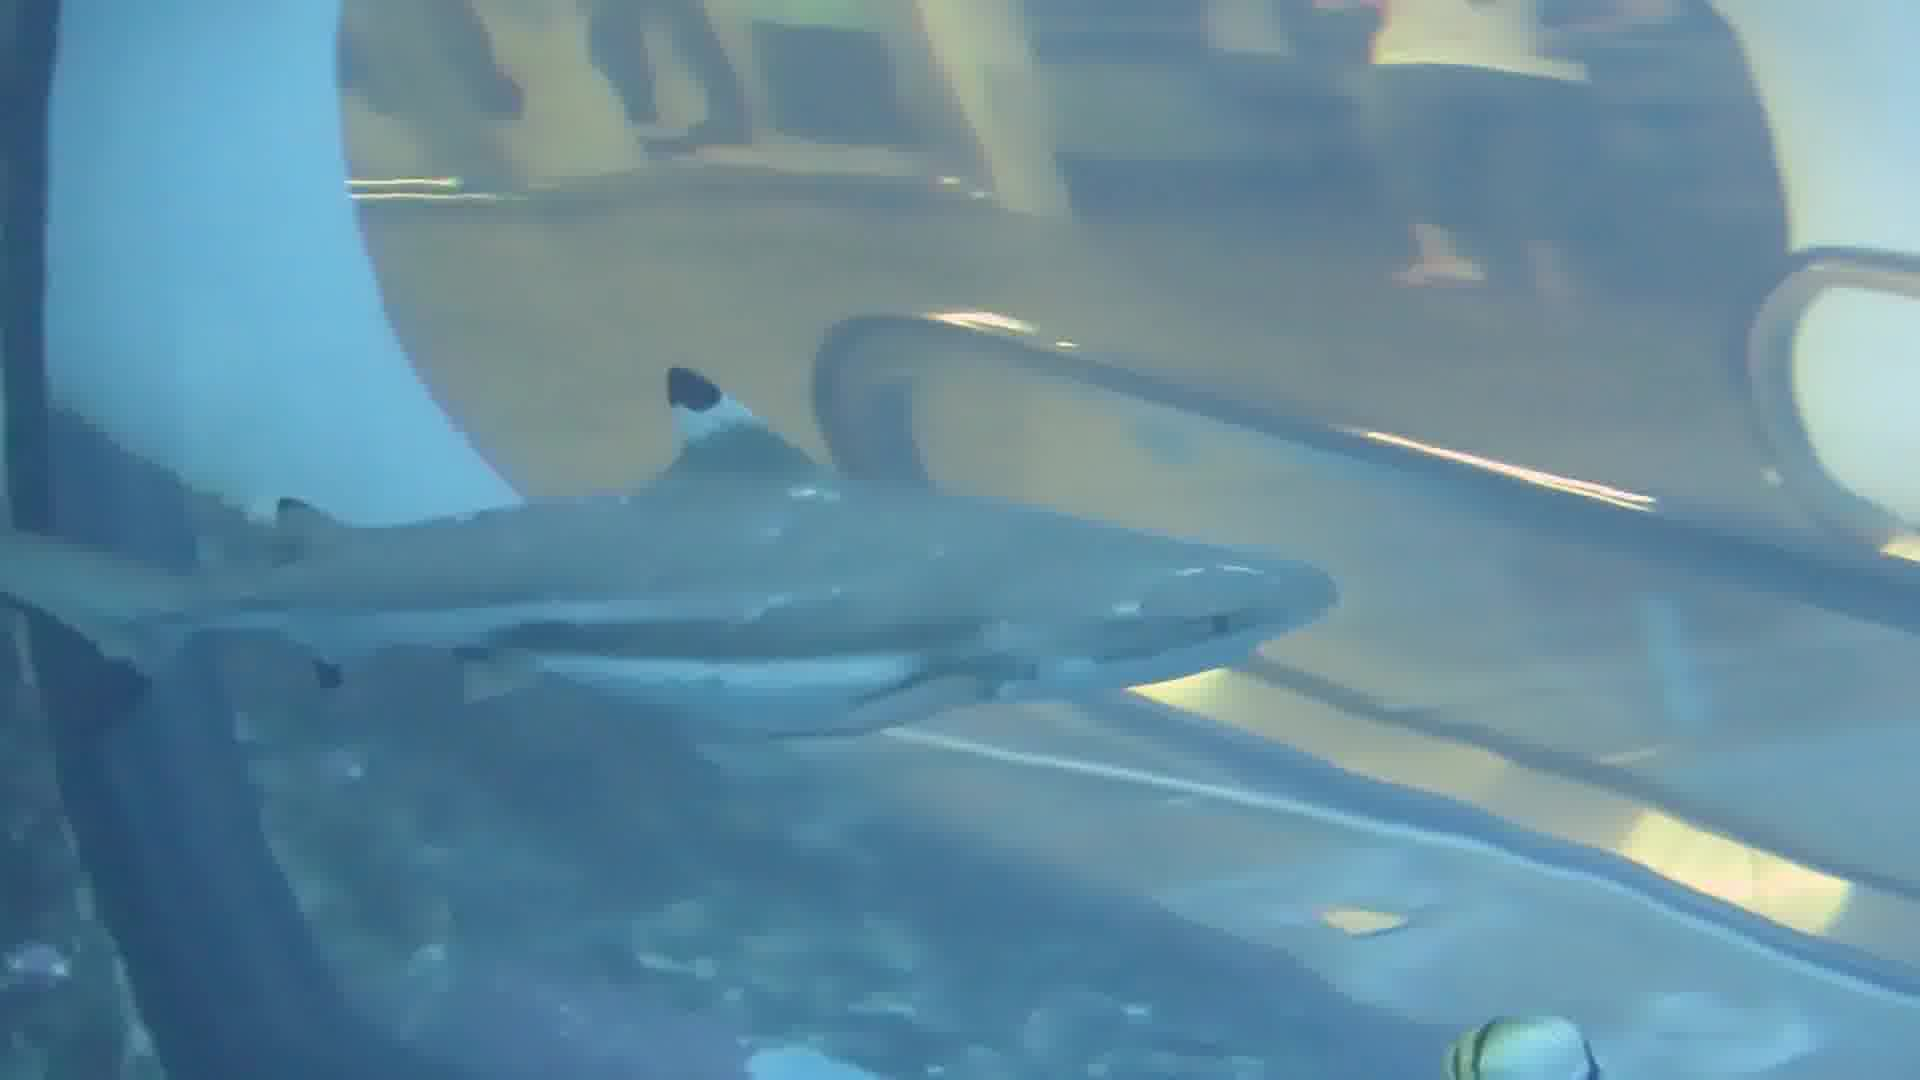Carcharhinus melanopterus: (1, 305, 1378, 767)
